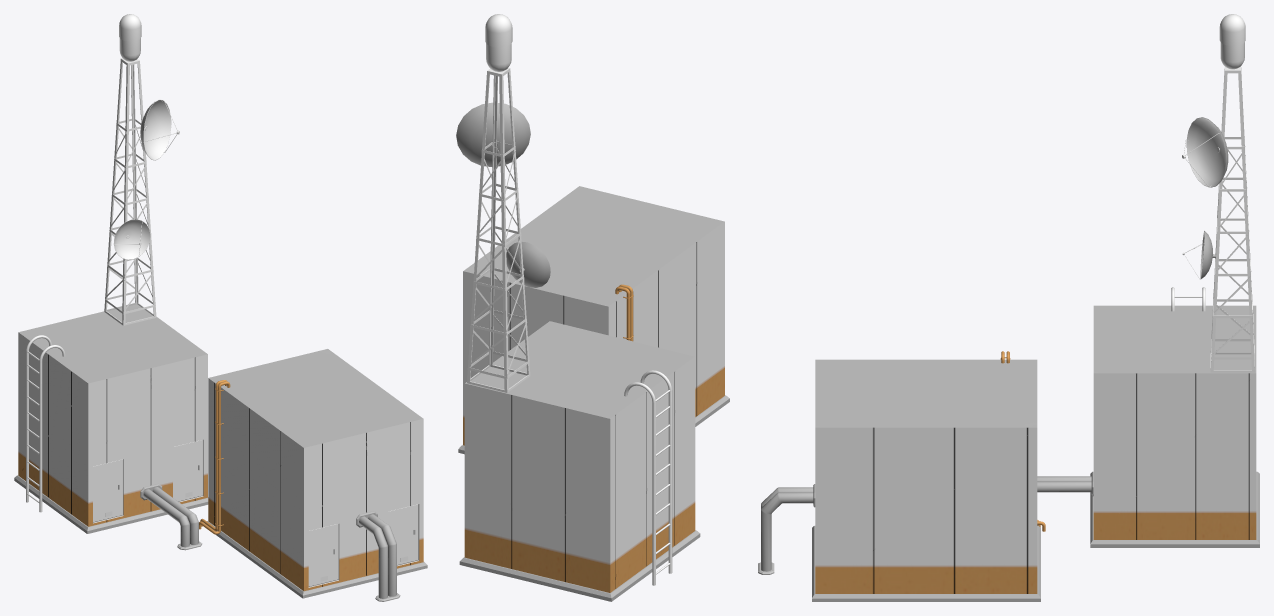
File: let_5.FBX
3 views of the same model, side by side, from view 1: azimuth 30°, elevation 25°; view 2: azimuth 150°, elevation 25°; view 3: azimuth 270°, elevation 25° (orthographic). The views are drawn at different scales.
Parts seen in each view (by area): view 1: Box004, Object001; view 2: Box004, Object001; view 3: Object001, Box004.
Boxes of the visible parts, x1,y1,x2,y2 form: Box004: (14, 14, 208, 550); Object001: (199, 349, 427, 601); Box004: (456, 14, 700, 601); Object001: (458, 186, 729, 454); Object001: (758, 351, 1045, 601); Box004: (1037, 14, 1259, 547).
Bounding box in the file's own units: 9.79 × 18.08 × 15.74.
